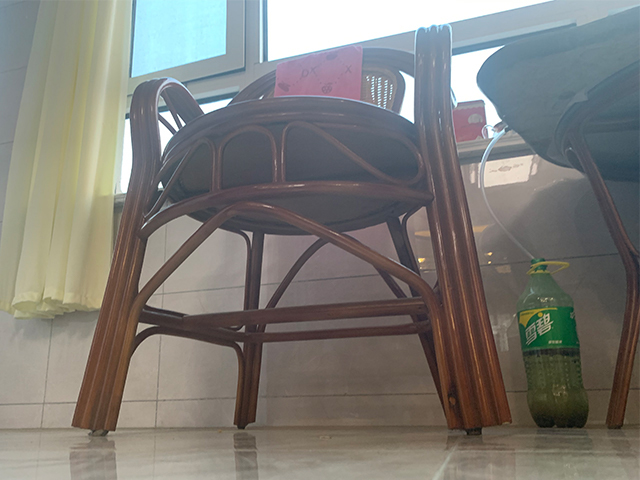stool: (70, 21, 513, 438)
table: (475, 5, 640, 429)
